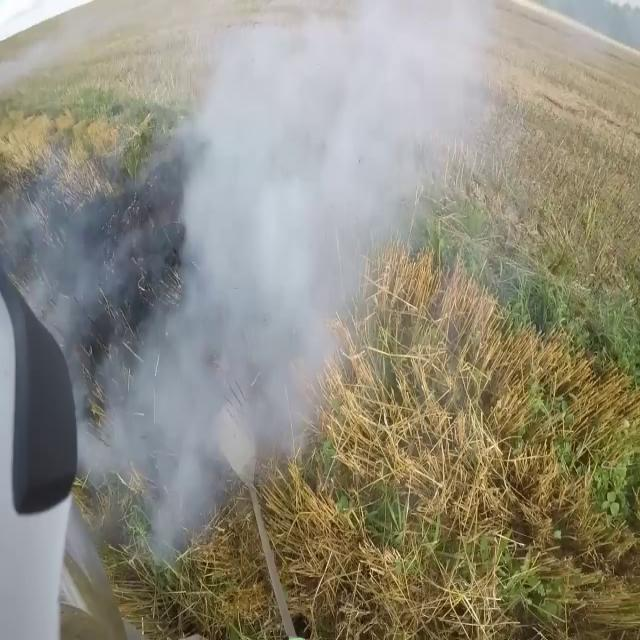Smoke: (85, 0, 508, 548)
